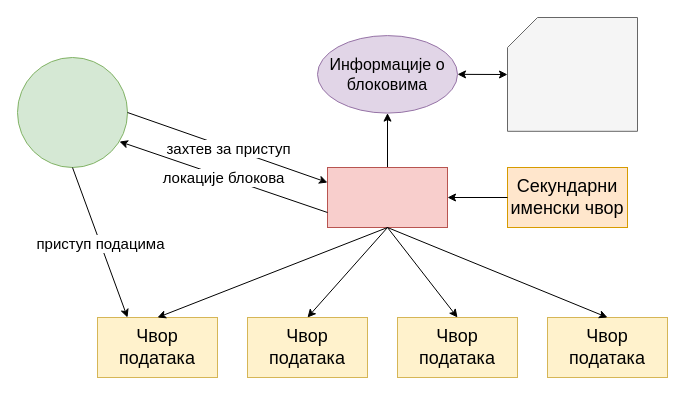
This 685x395 diagram has some shape labels left out. The centre of each missing label's shape, as x and y in pixels:
Апликација: pixel 72 112
Имена фајлова, локације блокова, правила приступа ...: pixel 572 73
Примарни именски чвор: pixel 387 197
